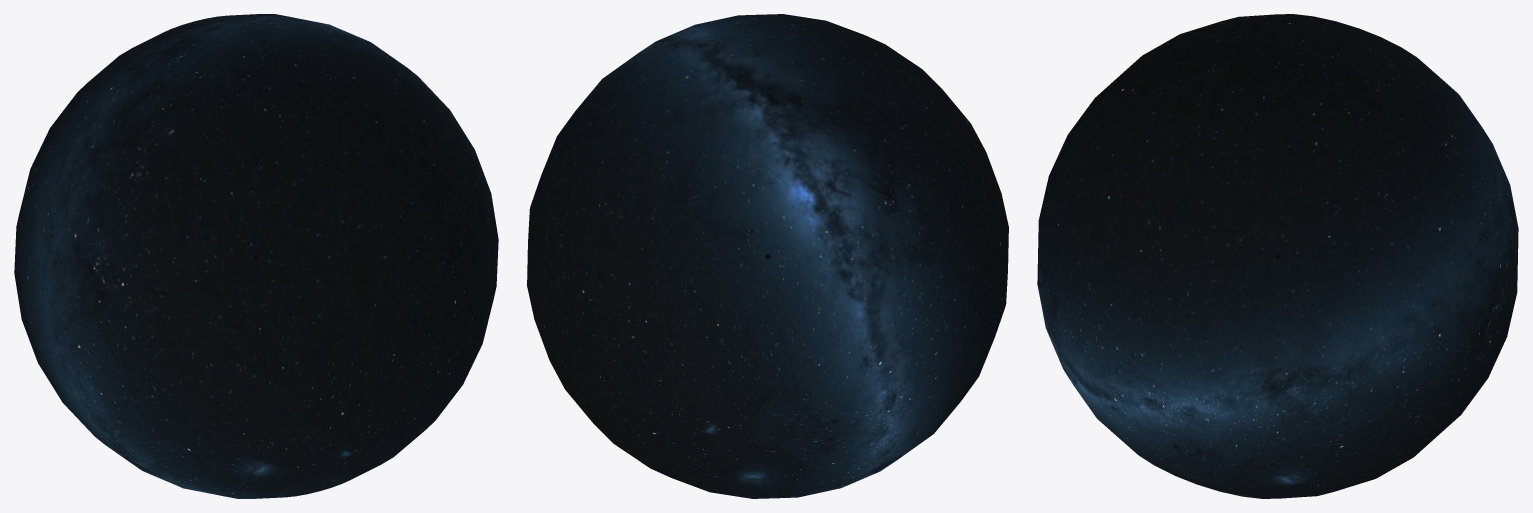
File: night_sky_quest.glb
3 views of the same model, side by side, from view 1: azimuth 30°, elevation 25°; view 2: azimuth 150°, elevation 25°; view 3: azimuth 270°, elevation 25° (orthographic).
Parts seen in each view (by area): view 1: Object_4; view 2: Object_4; view 3: Object_4.
Boxes of the visible parts, left/top/right/bottom form: Object_4: left=14, top=14, right=498, bottom=498; Object_4: left=527, top=14, right=1008, bottom=498; Object_4: left=1037, top=14, right=1518, bottom=498.
Size of the model in its own units: 61.06 by 61.4 by 60.9.
Materials: 3 (2 with a texture image).
